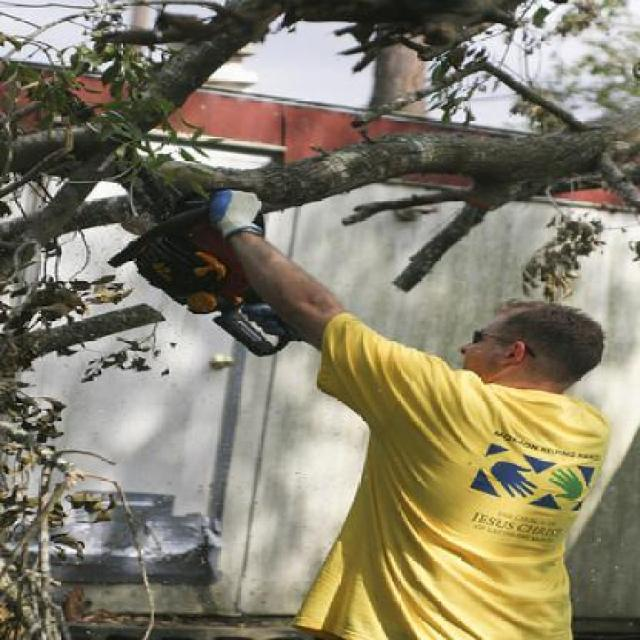Chainsaw: (99, 151, 292, 355)
